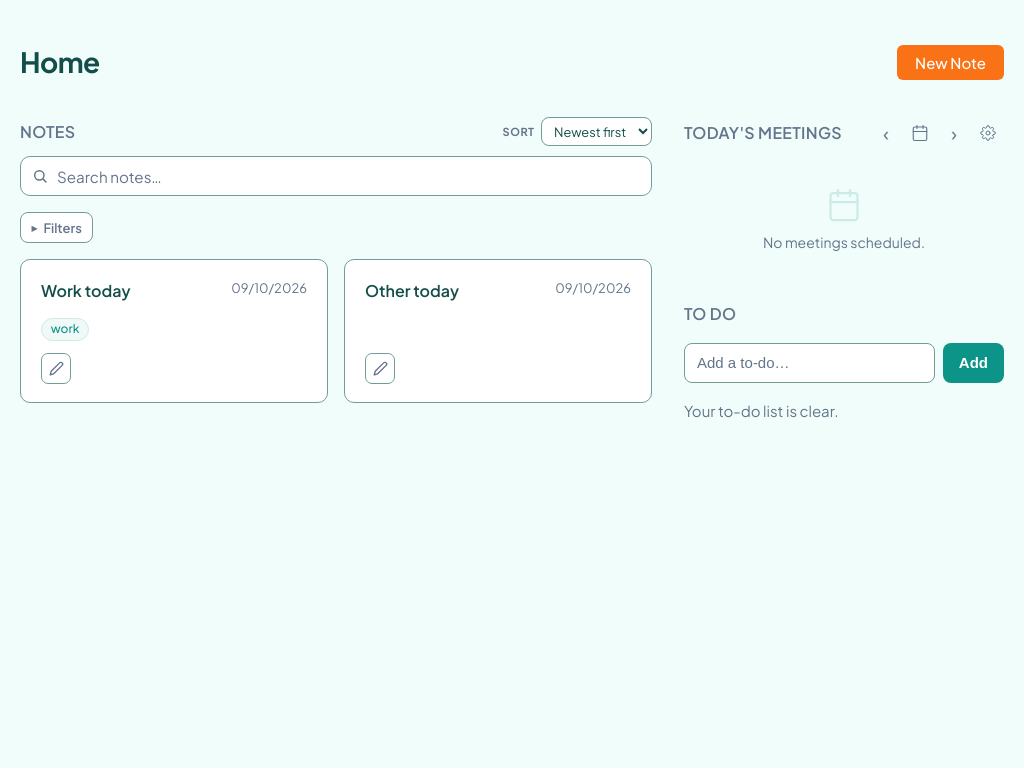
Test case: ListView — home default window + date-range filter (40-A) › composes the date range with the tag filter
Click the button "▸ Filters".
click(57, 228)  # box [20, 212, 93, 243]
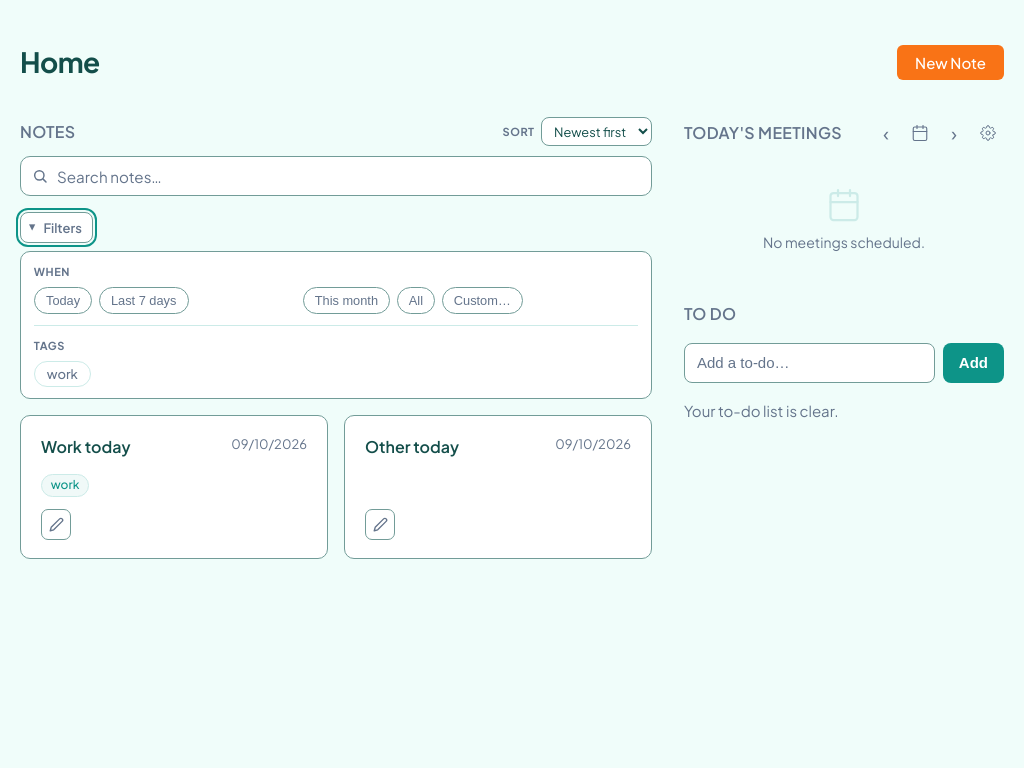
Click the button with test id "tag-filter-pill-work".
click(62, 374)  # box [34, 361, 91, 387]
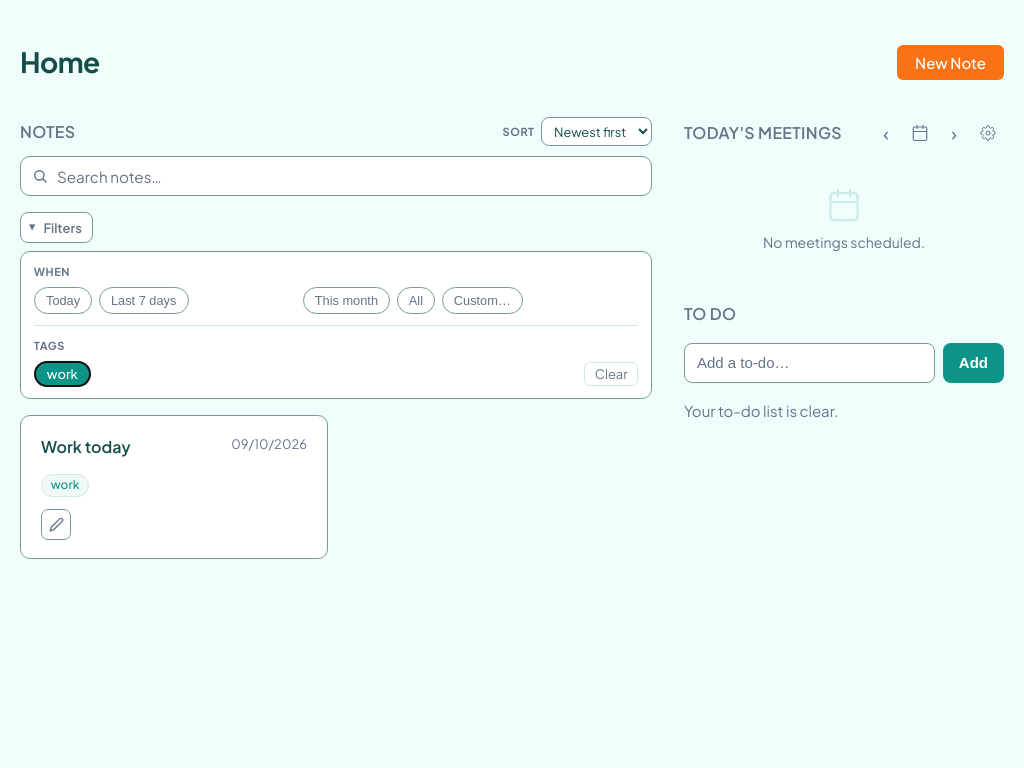
Expected: the heading "Work today" is shown, [41, 436, 130, 457]
Now the heading "Other today" is gone
